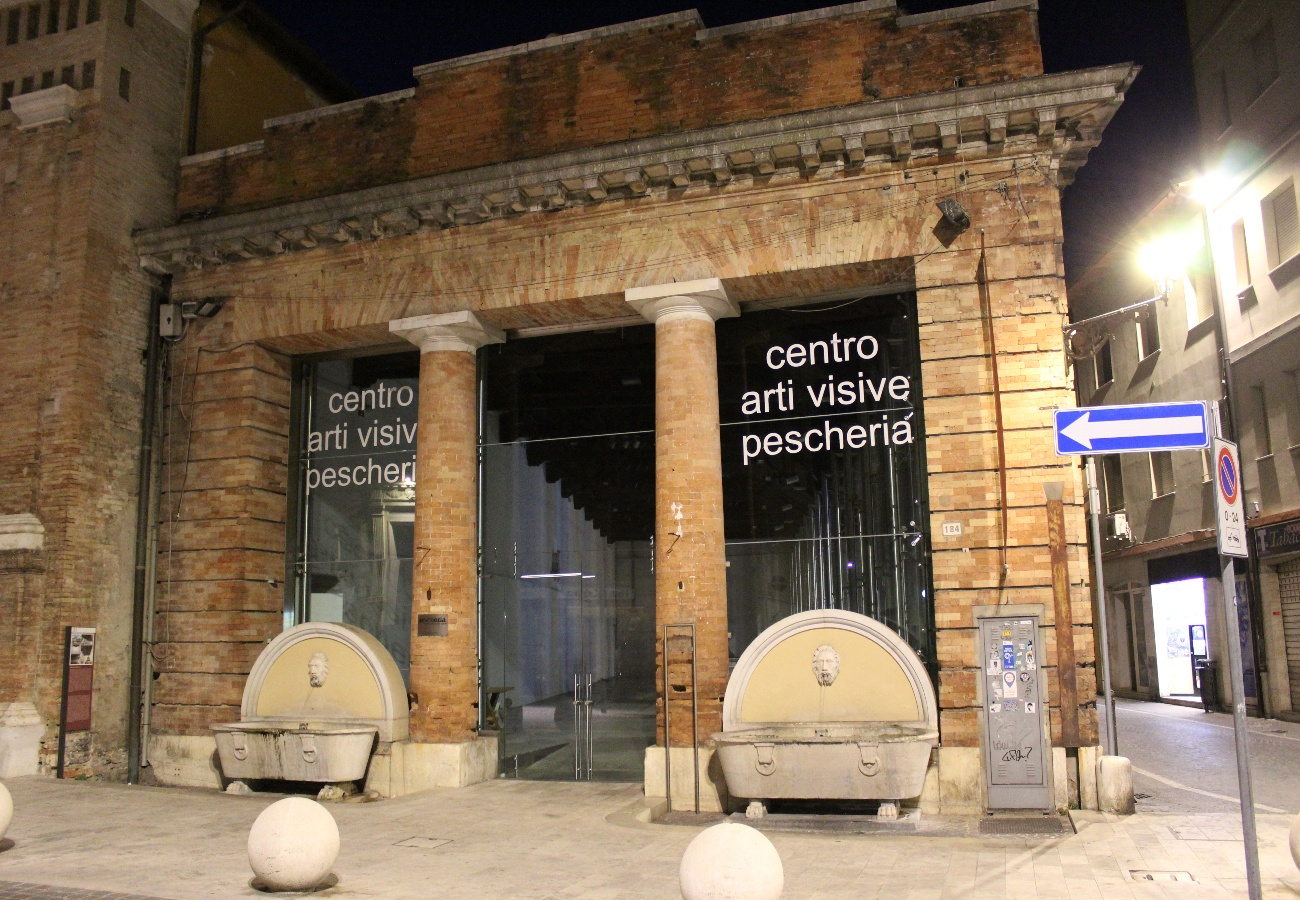Centro Arti Visive Pescheria: (129, 1, 1066, 839)
